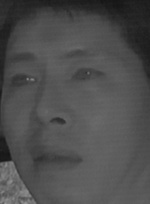eye: (69, 64, 108, 86), (5, 70, 41, 92)
mouth: (27, 142, 82, 174)
